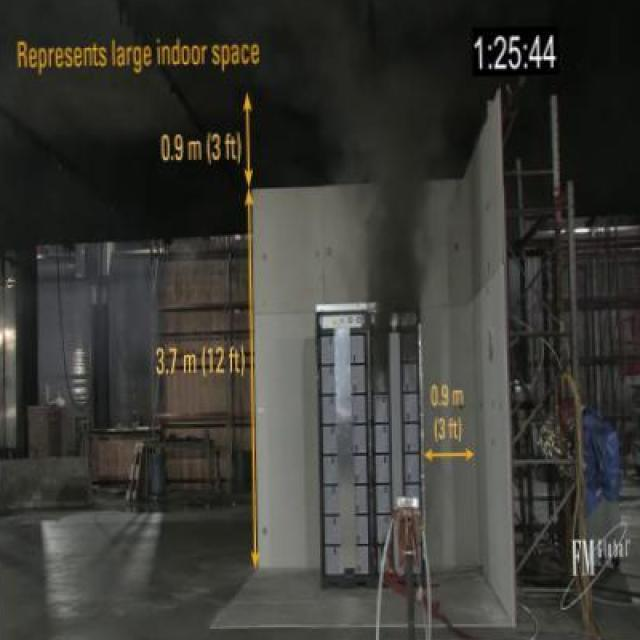fire: (322, 67, 461, 296)
